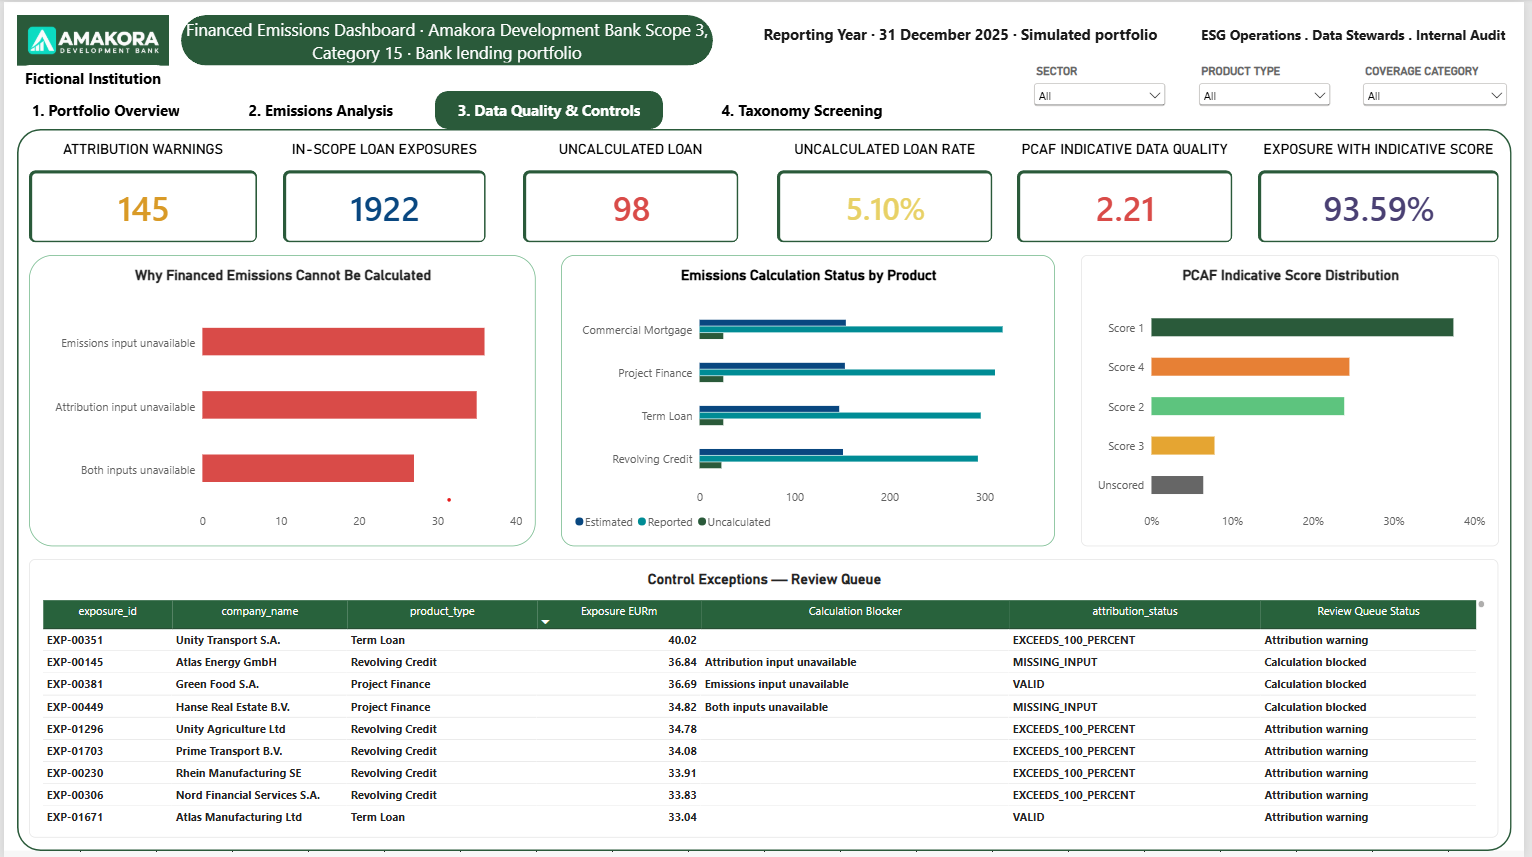

The dashboard page shown, as its layout file describes it:
{"tool":"powerbi","page":{"name":"Data quality control","canvas":[1920,1080],"ordinal":2},"visuals":[{"type":"shape","box":[0,0,1920,1072],"z":0},{"type":"shape","box":[224,16,672,64],"z":1000},{"type":"shape","box":[912,16,592,48],"z":2000},{"type":"shape","box":[16,112,224,48],"z":3000},{"type":"shape","box":[16,160,1888,912],"z":4000},{"type":"cardVisual","title":"ATTRIBUTION WARNINGS","fields":{"Data":["FCT_Portfolio_Calculated.Attribution Warning Loans"]},"box":[32,176,288,128],"z":5000},{"type":"cardVisual","title":"IN-SCOPE LOAN EXPOSURES","fields":{"Data":["FCT_Portfolio_Calculated.In-Scope Loan Exposures"]},"box":[352,176,256,128],"z":6000},{"type":"cardVisual","title":"UNCALCULATED LOAN","fields":{"Data":["FCT_Portfolio_Calculated.Uncalculated Loans"]},"box":[656,176,272,128],"z":7000},{"type":"cardVisual","title":"PCAF INDICATIVE DATA QUALITY","fields":{"Data":["FCT_Portfolio_Calculated.PCAF Weighted Indicative Score"]},"box":[1280,176,272,128],"z":8000},{"type":"clusteredBarChart","title":"Why Financed Emissions Cannot Be Calculated","fields":{"Category":["FCT_Portfolio_Calculated.Calculation Blocker"],"Y":["FCT_Portfolio_Calculated.Uncalculated Loans"]},"box":[32,320,640,368],"z":9000},{"type":"shape","box":[288,112,224,48],"z":10000},{"type":"slicer","fields":{"Values":["STG_Counterparties.sector_reported"]},"box":[1296,80,176,64],"z":11000},{"type":"slicer","fields":{"Values":["FCT_Portfolio_Calculated.product_type"]},"box":[1504,80,176,64],"z":12000},{"type":"slicer","fields":{"Values":["FCT_Portfolio_Calculated.Coverage Category"]},"box":[1712,80,192,64],"z":13000},{"type":"clusteredBarChart","title":"Emissions Calculation Status by Product","fields":{"Category":["FCT_Portfolio_Calculated.product_type"],"Y":["FCT_Portfolio_Calculated.In-Scope Loan Exposures"],"Series":["FCT_Portfolio_Calculated.Coverage Category"]},"box":[704,320,624,368],"z":14000},{"type":"shape","box":[544,112,288,48],"z":15000},{"type":"cardVisual","title":"UNCALCULATED LOAN RATE","fields":{"Data":["FCT_Portfolio_Calculated.Uncalculated Loan Rate %"]},"box":[976,176,272,128],"z":16000},{"type":"tableEx","title":"Control Exceptions — Review Queue","fields":{"Values":["FCT_Portfolio_Calculated.exposure_id","STG_Counterparties.company_name","FCT_Portfolio_Calculated.product_type","FCT_Portfolio_Calculated.Exposure EURm","FCT_Portfolio_Calculated.Calculation Blocker","FCT_Portfolio_Calculated.attribution_status","FCT_Portfolio_Calculated.Review Queue Status"]},"box":[32,704,1856,352],"z":17000},{"type":"shape","box":[1504,16,400,48],"z":18000},{"type":"cardVisual","title":"EXPOSURE WITH INDICATIVE SCORE","fields":{"Data":["FCT_Portfolio_Calculated.PCAF Scoring Coverage %"]},"box":[1584,176,304,128],"z":19000},{"type":"clusteredBarChart","title":"PCAF Indicative Score Distribution","fields":{"Category":["FCT_Portfolio_Calculated.PCAF Score Category"],"Y":["FCT_Portfolio_Calculated.PCAF Exposure Share %"]},"box":[1360,320,528,368],"z":20000},{"type":"image","box":[16,16,192,64],"z":21000},{"type":"shape","box":[864,112,288,48],"z":22000},{"type":"shape","box":[16,80,192,32],"z":23000}]}

Visuals, with their boxes in screenshot pixels (x1, y1, x2, y2), scaled from the page's 1920x1080 canvas onto the 1532x857 screenshot:
shape: x1=0, y1=0, x2=1531, y2=851
shape: x1=179, y1=13, x2=715, y2=63
shape: x1=728, y1=13, x2=1200, y2=51
shape: x1=13, y1=89, x2=192, y2=127
shape: x1=13, y1=127, x2=1519, y2=851
"ATTRIBUTION WARNINGS" cardVisual: x1=26, y1=140, x2=255, y2=241
"IN-SCOPE LOAN EXPOSURES" cardVisual: x1=281, y1=140, x2=485, y2=241
"UNCALCULATED LOAN" cardVisual: x1=523, y1=140, x2=740, y2=241
"PCAF INDICATIVE DATA QUALITY" cardVisual: x1=1021, y1=140, x2=1238, y2=241
"Why Financed Emissions Cannot Be Calculated" clusteredBarChart: x1=26, y1=254, x2=536, y2=546
shape: x1=230, y1=89, x2=409, y2=127
slicer - STG_Counterparties.sector_reported: x1=1034, y1=63, x2=1175, y2=114
slicer - FCT_Portfolio_Calculated.product_type: x1=1200, y1=63, x2=1340, y2=114
slicer - FCT_Portfolio_Calculated.Coverage Category: x1=1366, y1=63, x2=1519, y2=114
"Emissions Calculation Status by Product" clusteredBarChart: x1=562, y1=254, x2=1060, y2=546
shape: x1=434, y1=89, x2=664, y2=127
"UNCALCULATED LOAN RATE" cardVisual: x1=779, y1=140, x2=996, y2=241
"Control Exceptions — Review Queue" tableEx: x1=26, y1=559, x2=1506, y2=838
shape: x1=1200, y1=13, x2=1519, y2=51
"EXPOSURE WITH INDICATIVE SCORE" cardVisual: x1=1264, y1=140, x2=1506, y2=241
"PCAF Indicative Score Distribution" clusteredBarChart: x1=1085, y1=254, x2=1506, y2=546
image: x1=13, y1=13, x2=166, y2=63
shape: x1=689, y1=89, x2=919, y2=127
shape: x1=13, y1=63, x2=166, y2=89
